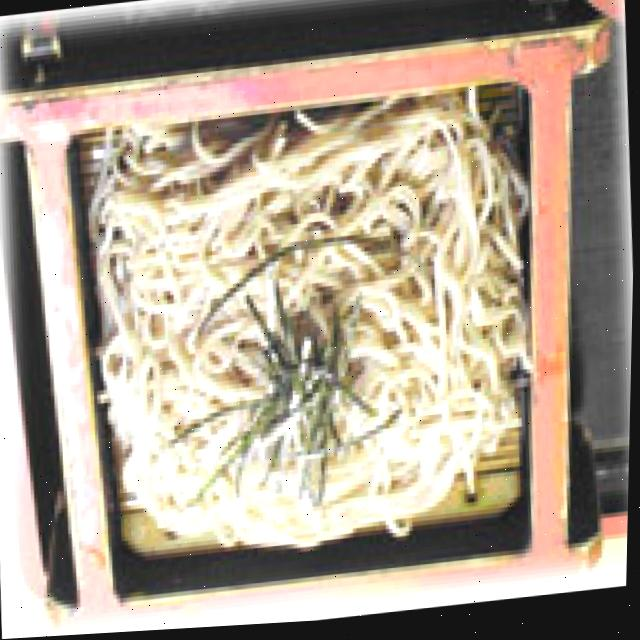面条主食: (25, 0, 640, 634)
